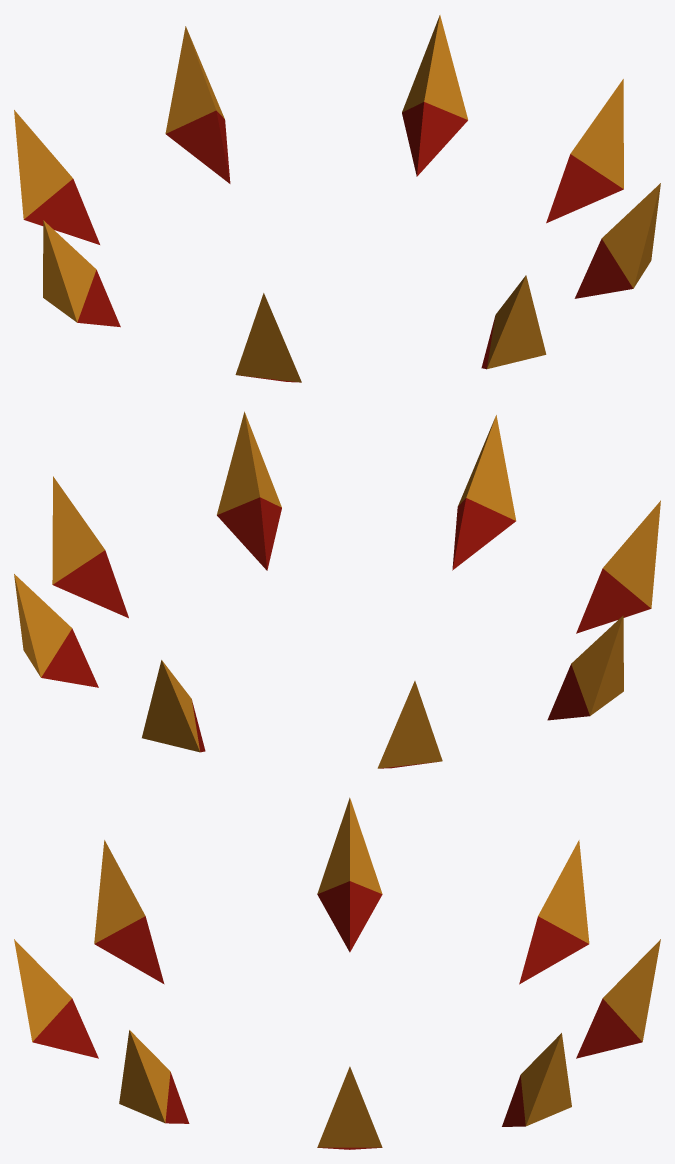
The model's file is flame.obj.
3 renders of one model, top to bottom at view 1: azimuth 30°, elevation 25°; view 2: azimuth 150°, elevation 25°; view 3: azimuth 270°, elevation 25°, orthographic. The views are drawn at different scales.
Parts seen in each view (by area): view 1: Cube.008_Cube.003; view 2: Cube.008_Cube.003; view 3: Cube.008_Cube.003.
Boxes of the visible parts, x1=… form: Cube.008_Cube.003: x1=14, y1=15, x2=660, y2=382; Cube.008_Cube.003: x1=14, y1=411, x2=660, y2=768; Cube.008_Cube.003: x1=14, y1=797, x2=660, y2=1149.
Size of the model in its own units: 0.388 by 0.0806 by 0.3946.
